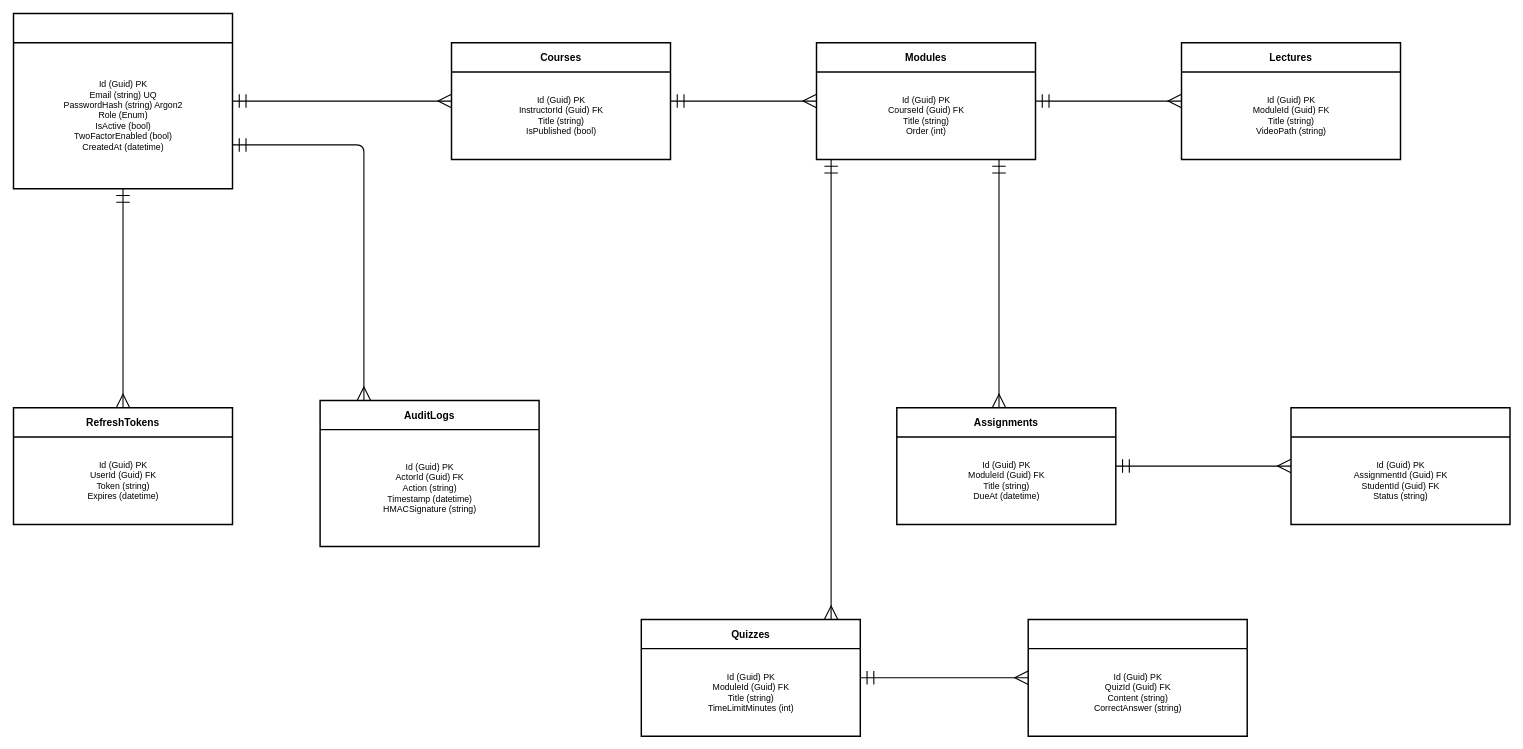
Some shapes in this 1523 by 749 pixel diagram are drawn without their labels. Each missing label, with the box of its shape:
Questions: (1027, 618, 1248, 737)
Submissions: (1290, 407, 1510, 525)
Users: (12, 12, 233, 189)
